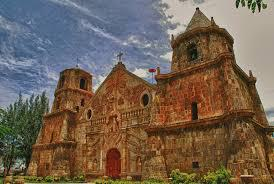Miagao Church: (24, 8, 271, 179)
